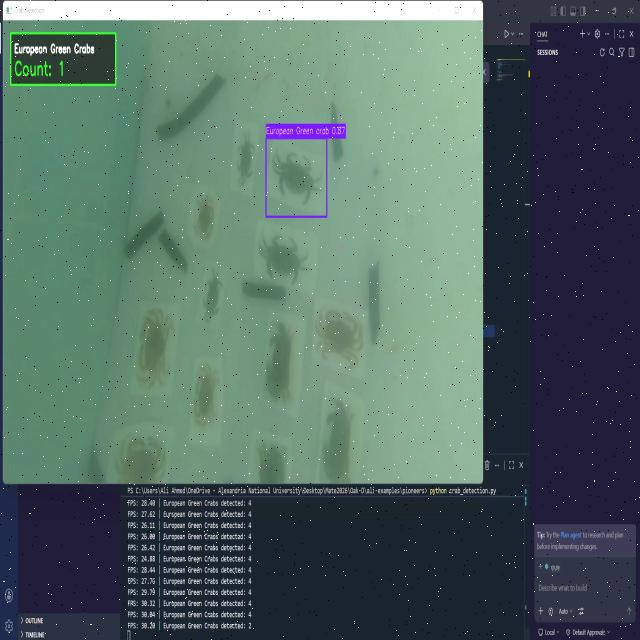European_Green_Crab: (271, 145, 322, 207), (259, 230, 310, 287), (198, 266, 225, 323), (232, 128, 256, 192)
